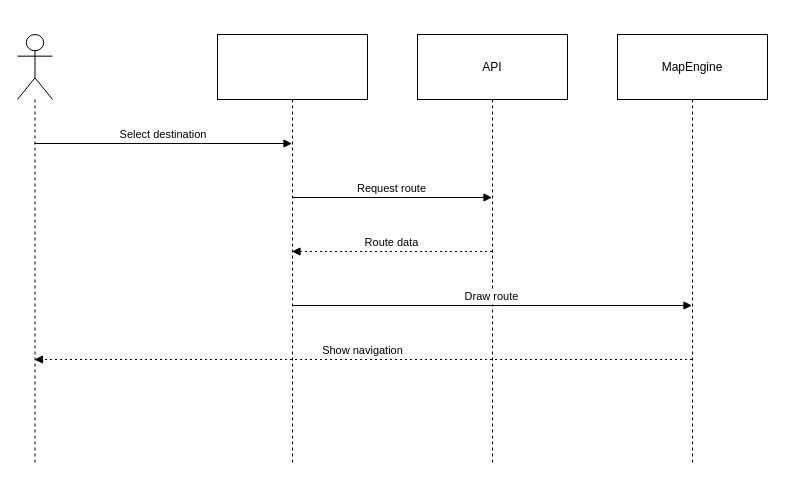
Some shapes in this 785 by 482 pixel diagram are drawn without their labels. The box of each missing label's shape, as (x1, y1, x2, y2) in pixels:
UI: (216, 34, 368, 464)
User: (16, 34, 52, 464)
